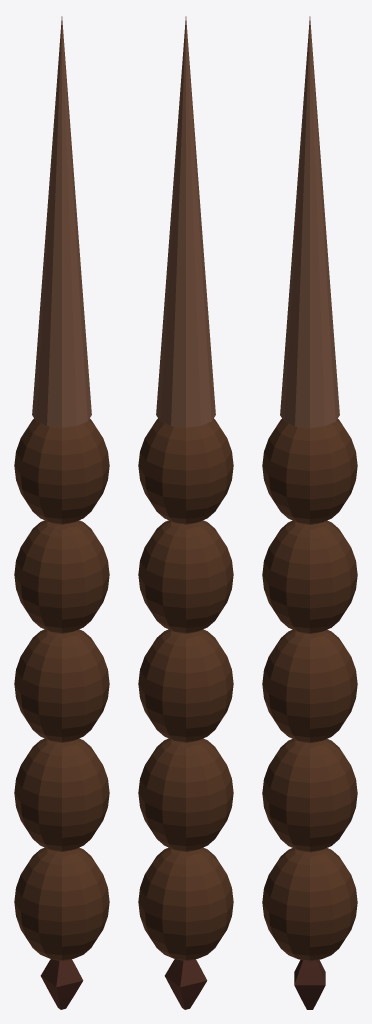
The model's file is Wand 225.glb.
3 views of the same model, side by side, from view 1: azimuth 30°, elevation 25°; view 2: azimuth 210°, elevation 25°; view 3: azimuth 270°, elevation 25° (orthographic).
Visible parts, largest first — view 1: GeneratedWand; view 2: GeneratedWand; view 3: GeneratedWand.
Boxes of the visible parts, bbox=[...] form: GeneratedWand: bbox=[14, 16, 109, 1009]; GeneratedWand: bbox=[138, 16, 233, 1009]; GeneratedWand: bbox=[262, 16, 357, 1009].
Bounding box in the file's own units: 0.0447 × 0.5169 × 0.0449.
